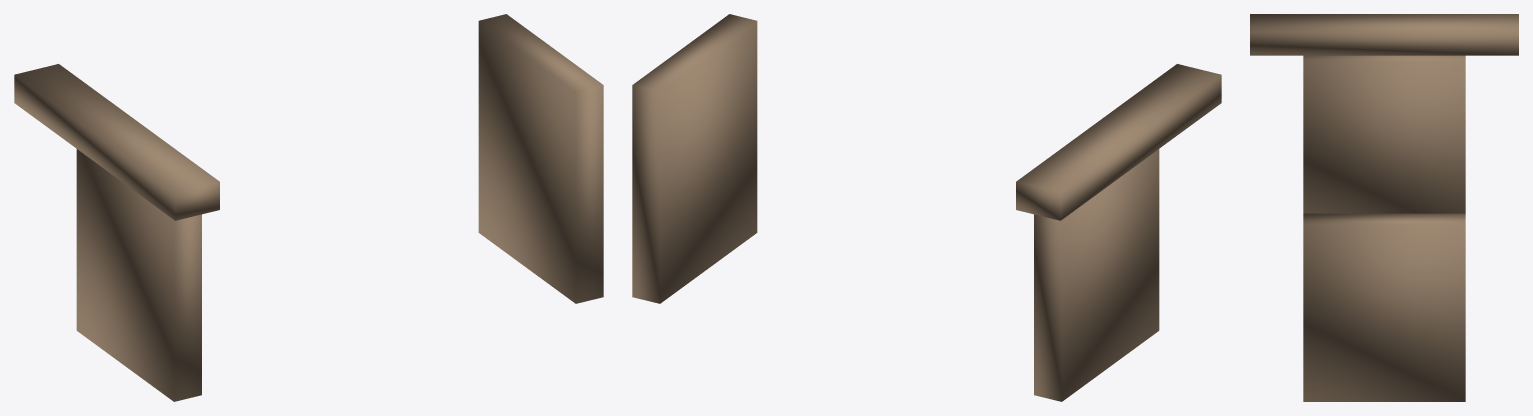
The model's file is luggage_rack__wide.glb.
The picture shows the model from 3 angles, left to right: view 1: azimuth 30°, elevation 25°; view 2: azimuth 150°, elevation 25°; view 3: azimuth 270°, elevation 25°; orthographic projection. The views are drawn at different scales.
Visible parts, largest first — view 1: world; view 2: world; view 3: world.
Part boxes in pixels (x1,y1,x2,y2): world: [14, 14, 603, 401]; world: [632, 14, 1221, 401]; world: [1250, 14, 1518, 401].
Bounding box in the file's own units: 1.02 × 0.51 × 0.62.
